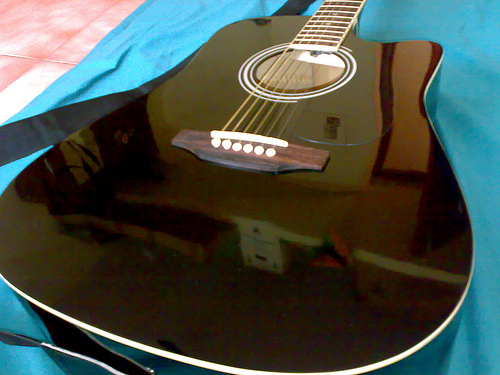guitar: (1, 1, 477, 375)
